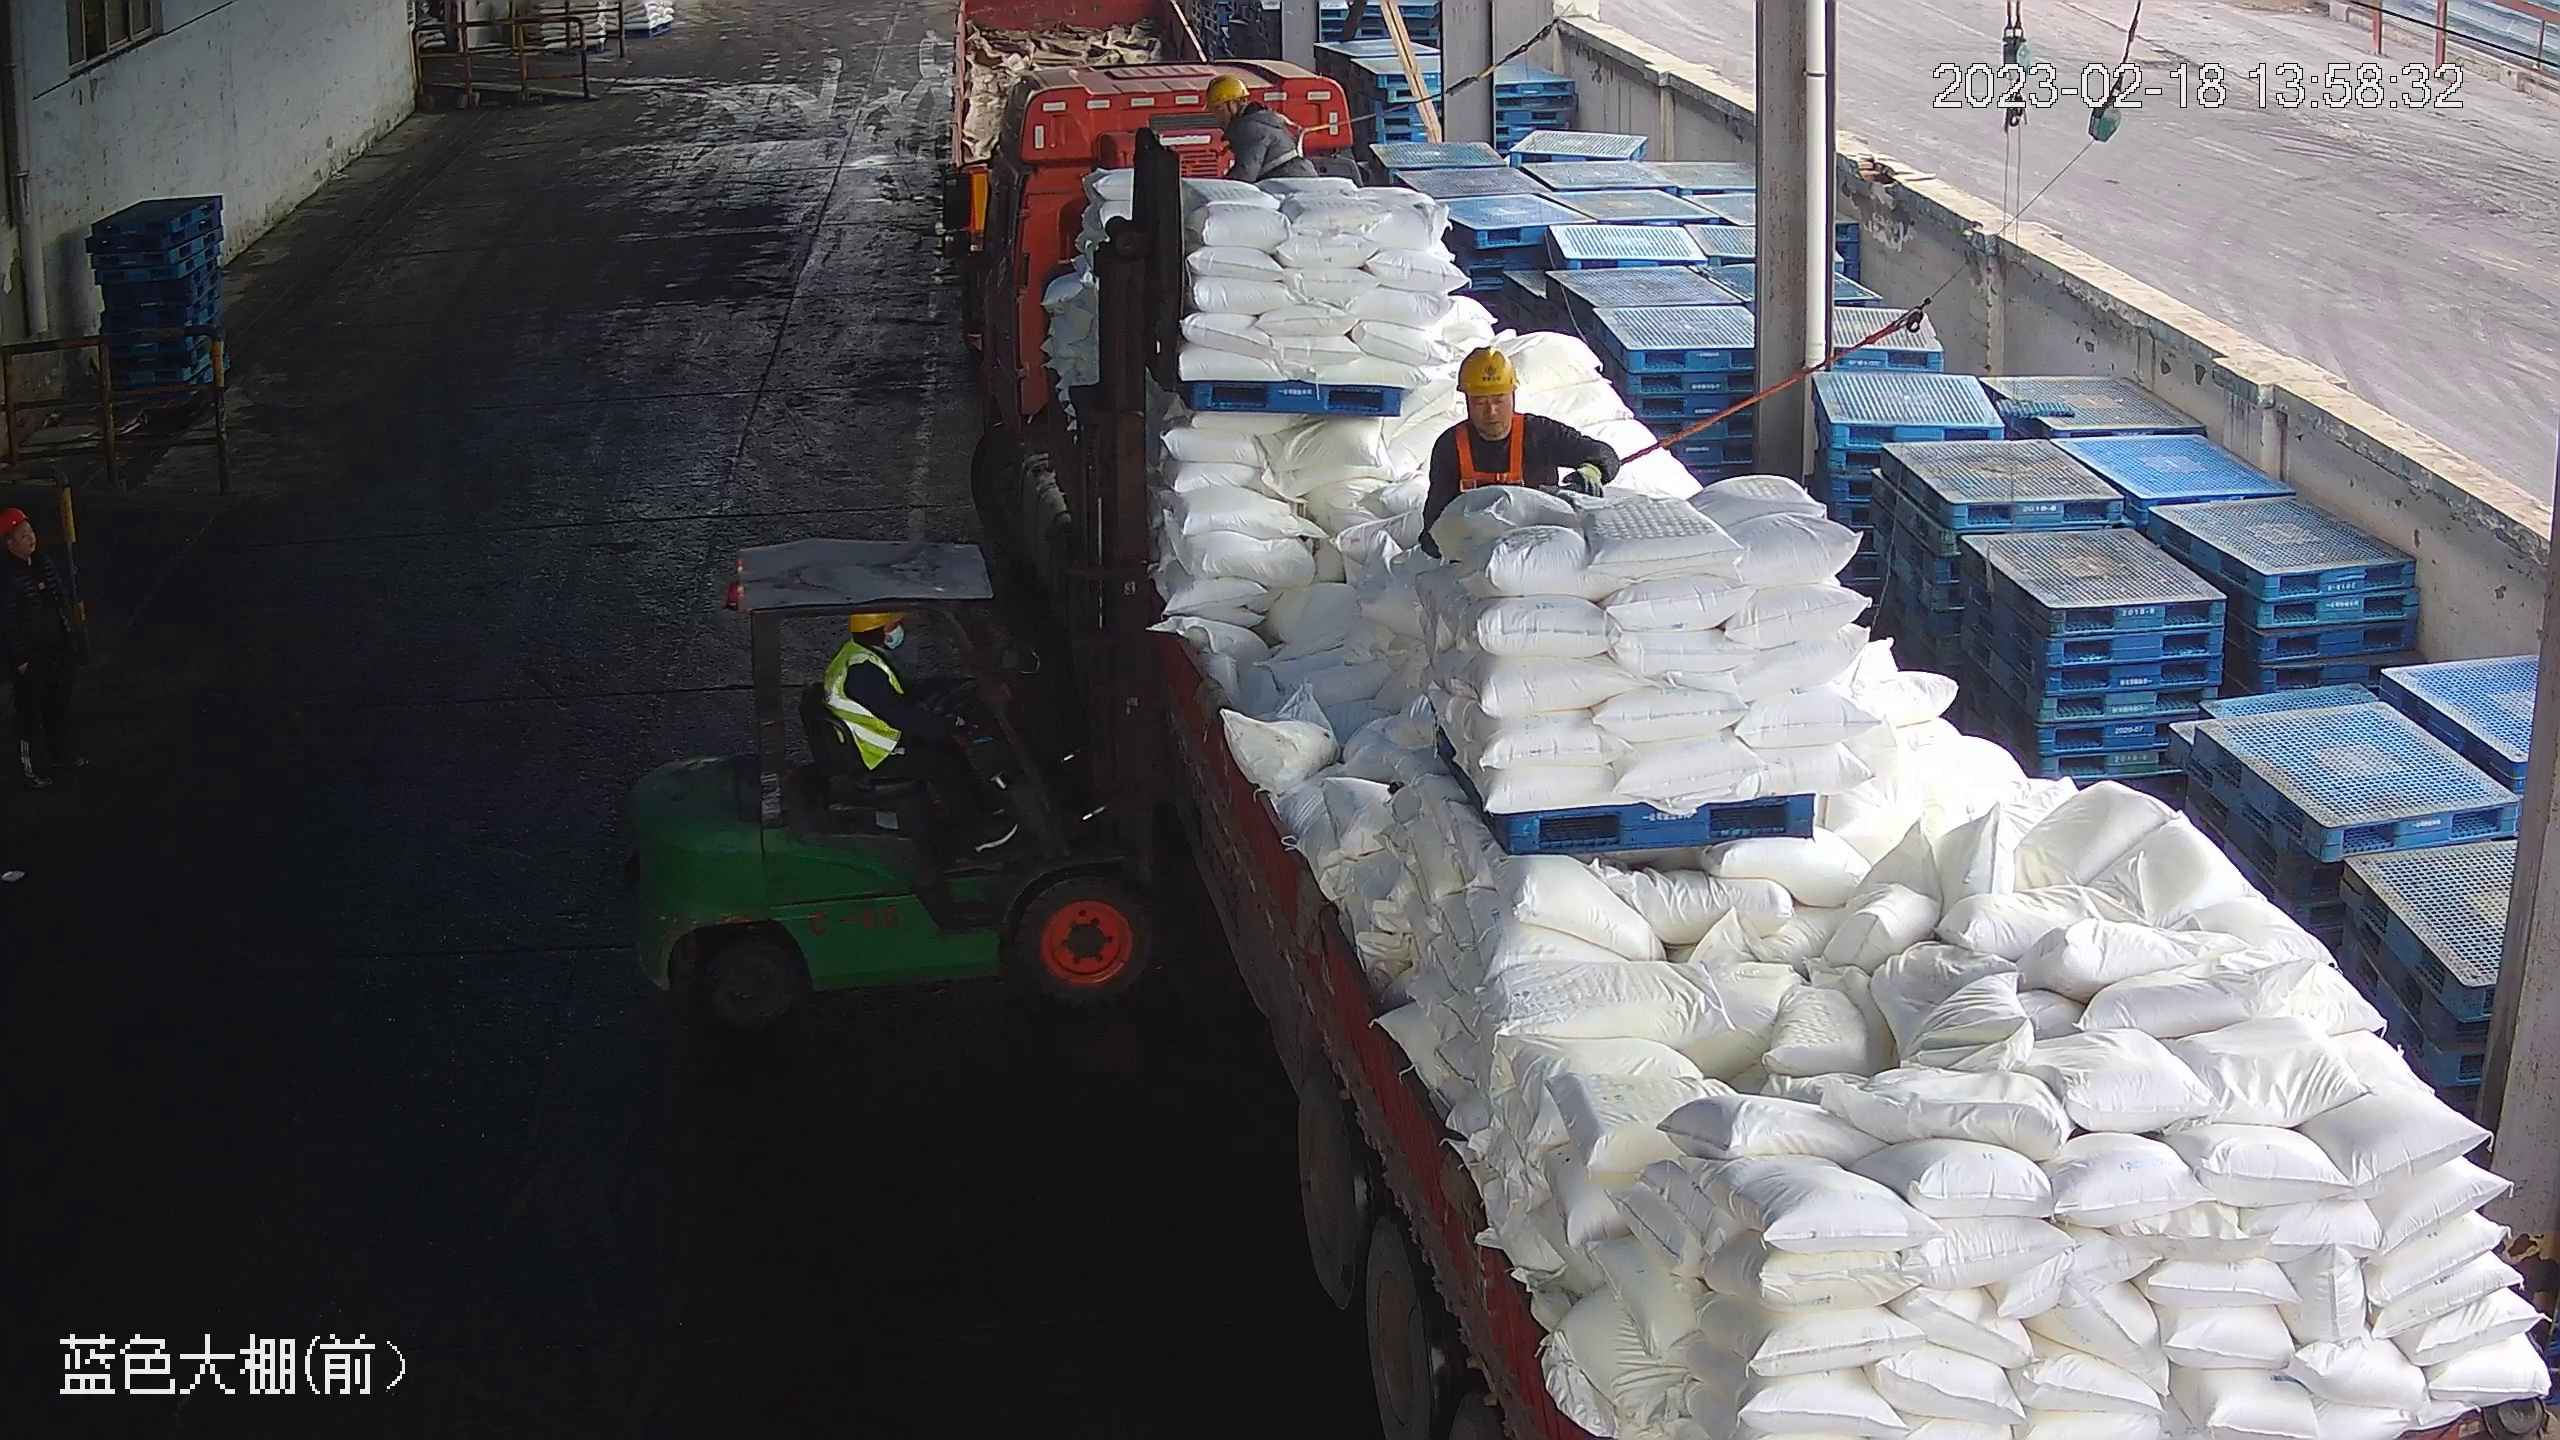belt: (1457, 413, 1535, 494), (1240, 100, 1310, 167)
head: (1428, 344, 1573, 469), (828, 612, 910, 696), (1204, 72, 1294, 148), (1, 506, 65, 603)
helmet: (1449, 343, 1519, 395), (1203, 71, 1249, 105), (1, 505, 29, 535)
people: (828, 608, 1011, 851), (1, 506, 80, 812)
truck: (960, 50, 2557, 1440)
